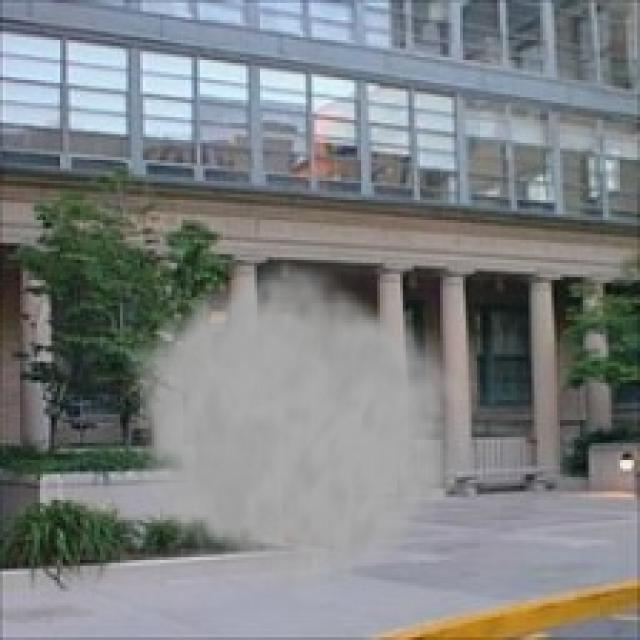Smoke: (114, 252, 469, 612)
